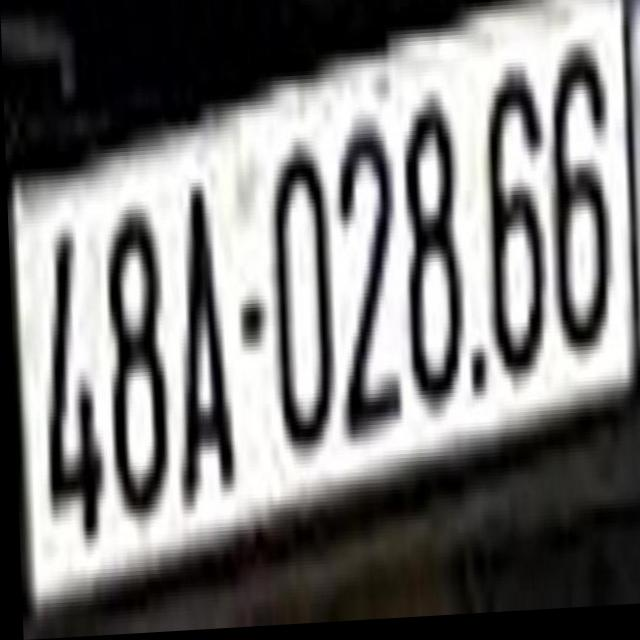0: (263, 136, 334, 473)
2: (331, 129, 402, 446)
4: (29, 221, 101, 561)
6: (545, 41, 618, 374), (483, 60, 551, 389)
8: (102, 206, 167, 523), (399, 99, 465, 409)
A: (169, 168, 234, 528)
